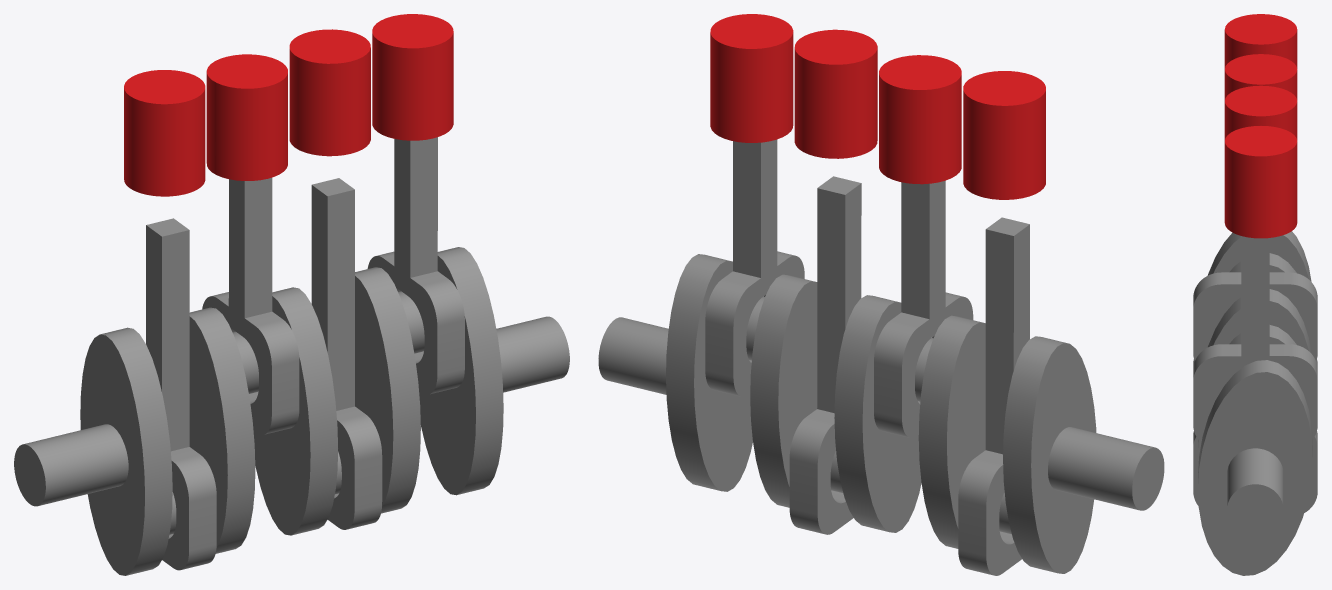
File: engine1.glb
The picture shows the model from 3 angles, left to right: view 1: azimuth 30°, elevation 25°; view 2: azimuth 150°, elevation 25°; view 3: azimuth 270°, elevation 25°; orthographic projection. The views are drawn at different scales.
Visible parts, largest first — view 1: Cylinder, conrod.003, conrod.001, conrod.02, conrod.04, piston.04, piston.001, piston.003, piston.02; view 2: Cylinder, conrod.003, conrod.001, conrod.04, conrod.02, piston.001, piston.04, piston.02, piston.003; view 3: Cylinder, conrod.04, piston.04, conrod.02, piston.001, piston.003, piston.02, conrod.001.
Boxes of the visible parts, x1,y1,x2,y2 form: Cylinder: (14,247,569,575); conrod.003: (146,218,216,570); conrod.001: (311,178,382,529); conrod.02: (202,177,299,434); conrod.04: (367,137,464,394); piston.04: (372,14,453,140); piston.001: (289,29,370,156); piston.003: (124,70,205,196); piston.02: (206,54,287,180); Cylinder: (598,254,1164,573); conrod.003: (958,217,1029,575); conrod.001: (789,176,861,534); conrod.04: (705,139,804,396); conrod.02: (874,180,973,438); piston.001: (794,29,877,158); piston.04: (710,14,793,142); piston.02: (879,55,961,184); piston.003: (963,71,1045,199); Cylinder: (1198,231,1312,575); conrod.04: (1193,236,1317,442); piston.04: (1224,126,1297,238); conrod.02: (1193,272,1317,361); piston.001: (1224,85,1297,140); piston.003: (1224,14,1297,68); piston.02: (1224,54,1297,100); conrod.001: (1193,431,1317,512).
Bounding box in the file's own units: 19 × 16.19 × 4.4.
